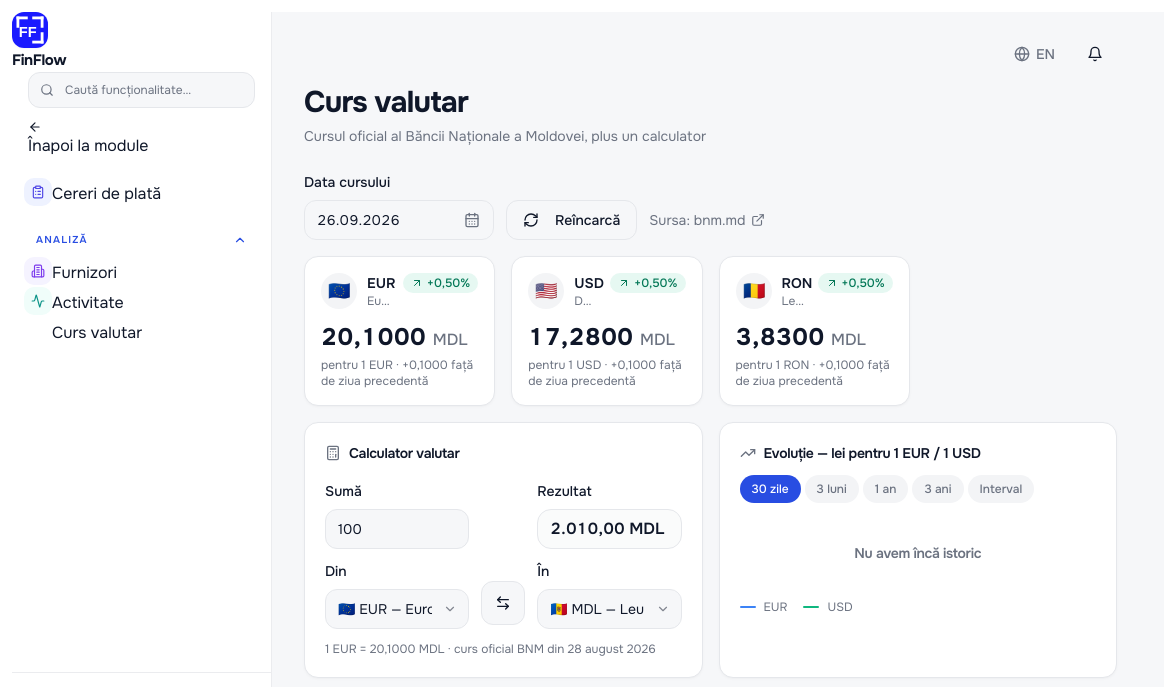
Test: ParExchange › inversează valutele din buton
Expected: the dropdown labelled "Din" is shown, [325,589,469,629]
Step 1. Click the button named "Inversează valutele" → (503, 603), box [481,581,525,625]
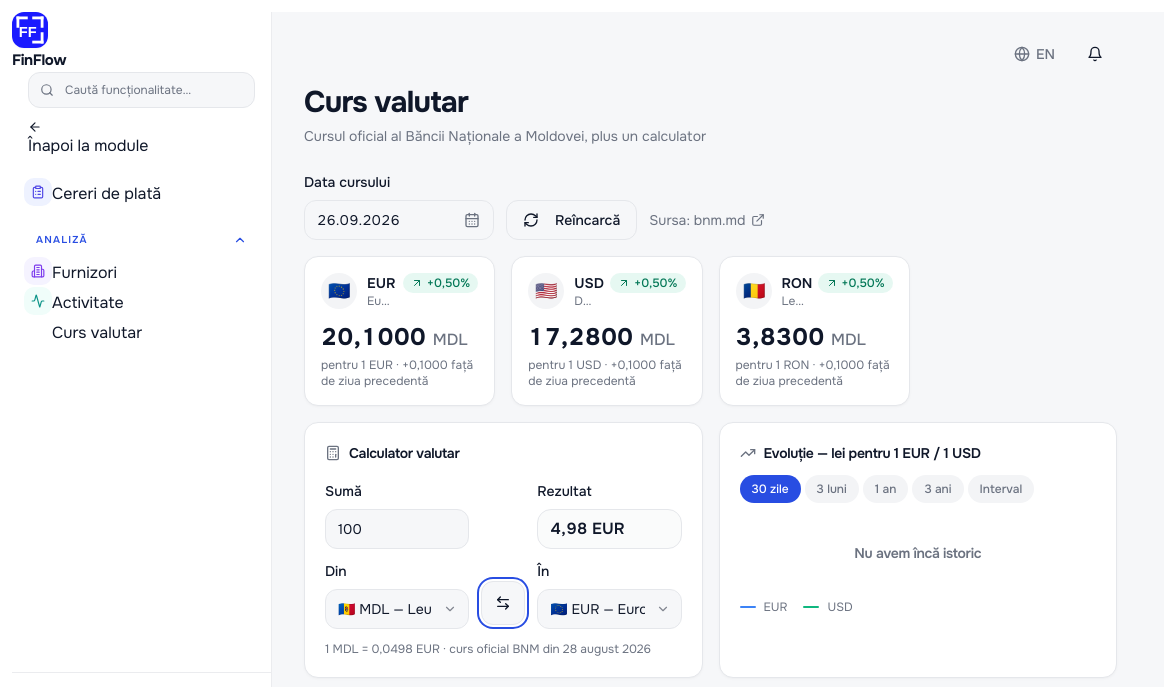
Now the dropdown labelled "Din" shows "🇲🇩 MDL — Leu moldovenesc", box [325,589,469,629]
Now the dropdown labelled "În" shows "🇪🇺 EUR — Euro", box [537,589,682,629]
